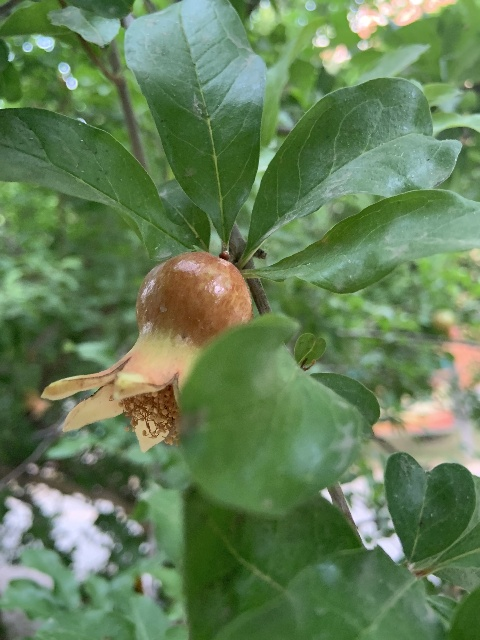early-fruit: (39, 252, 252, 454)
